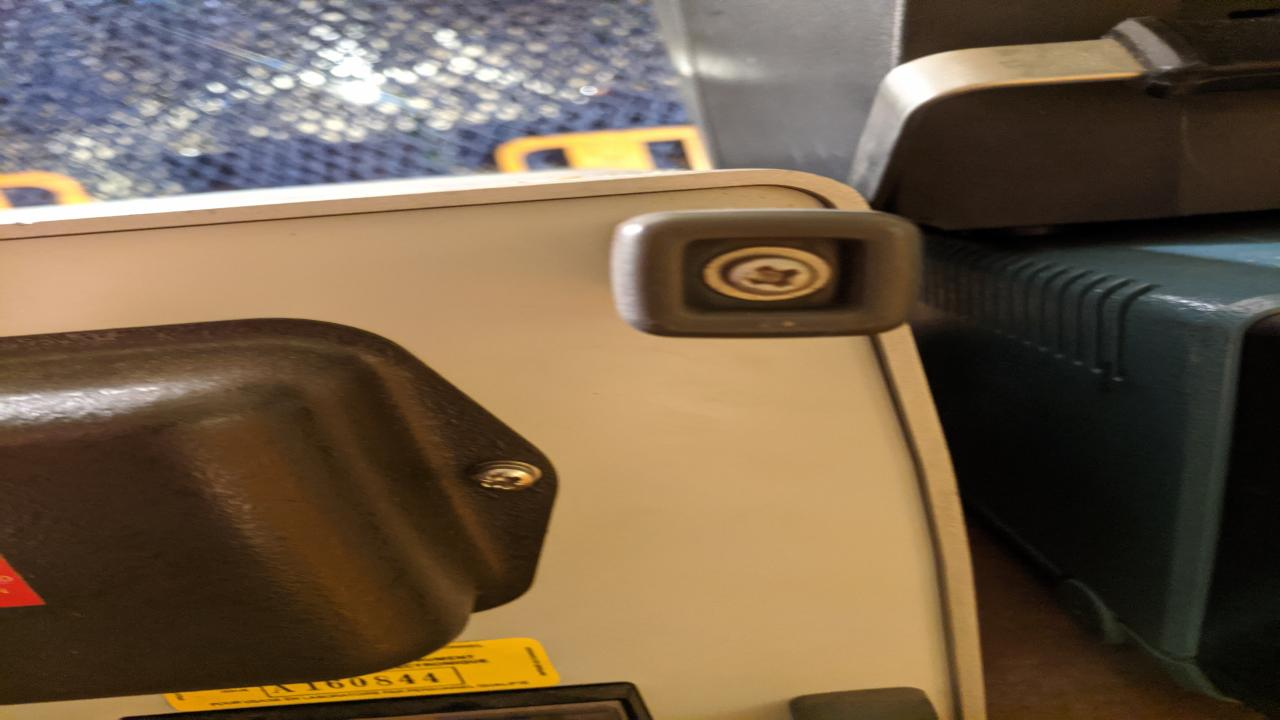CRS: (720, 252, 812, 290), (471, 462, 536, 492)
